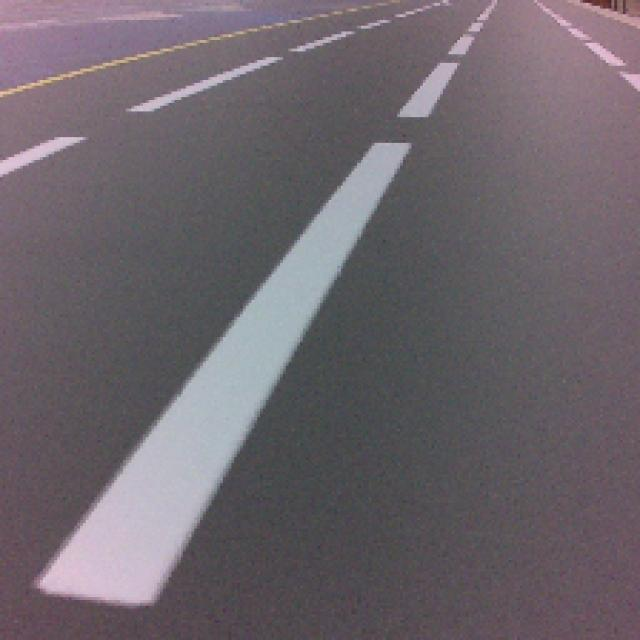Road: (153, 386, 638, 637)
